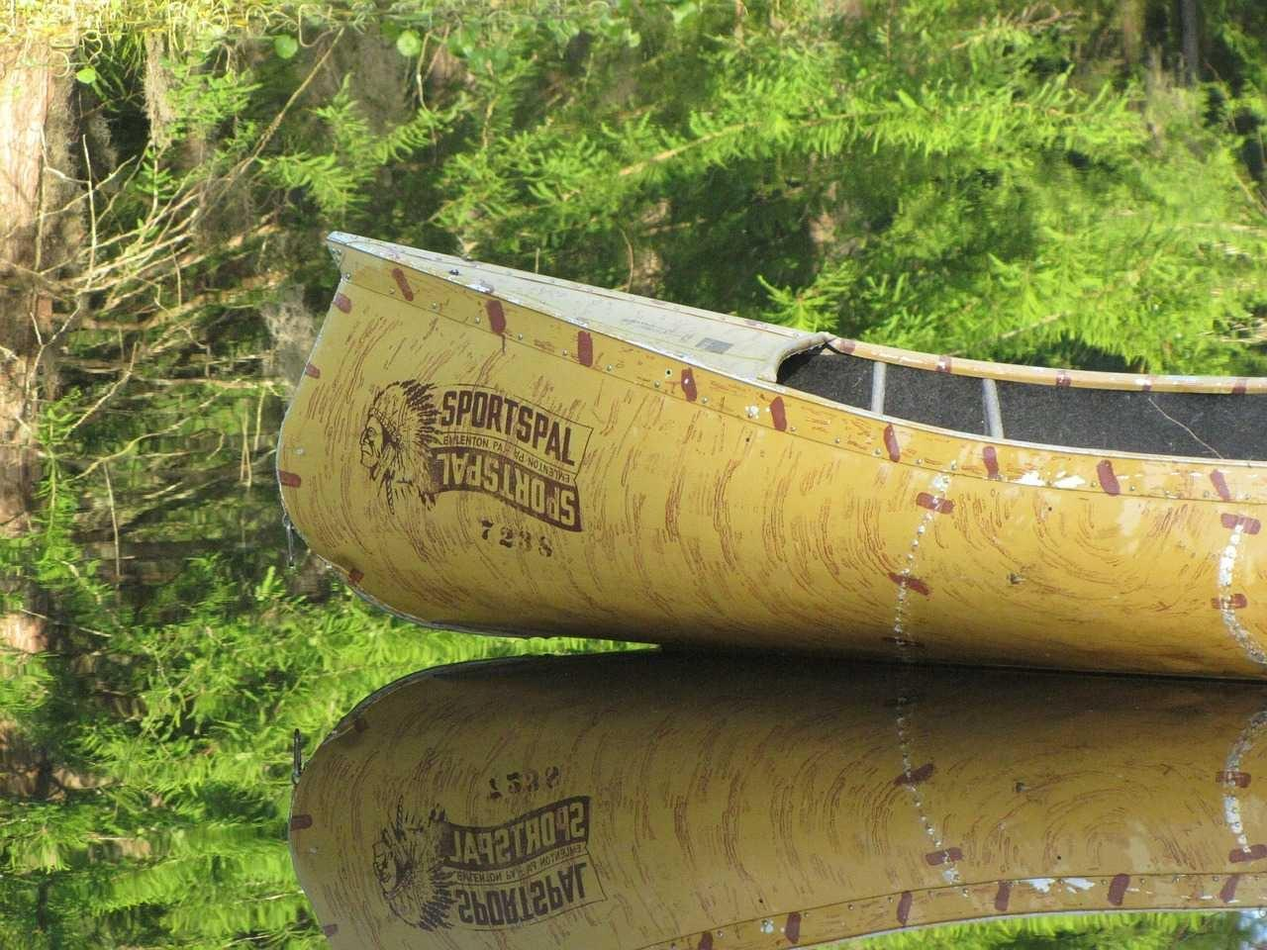kayak: (284, 227, 1263, 684)
